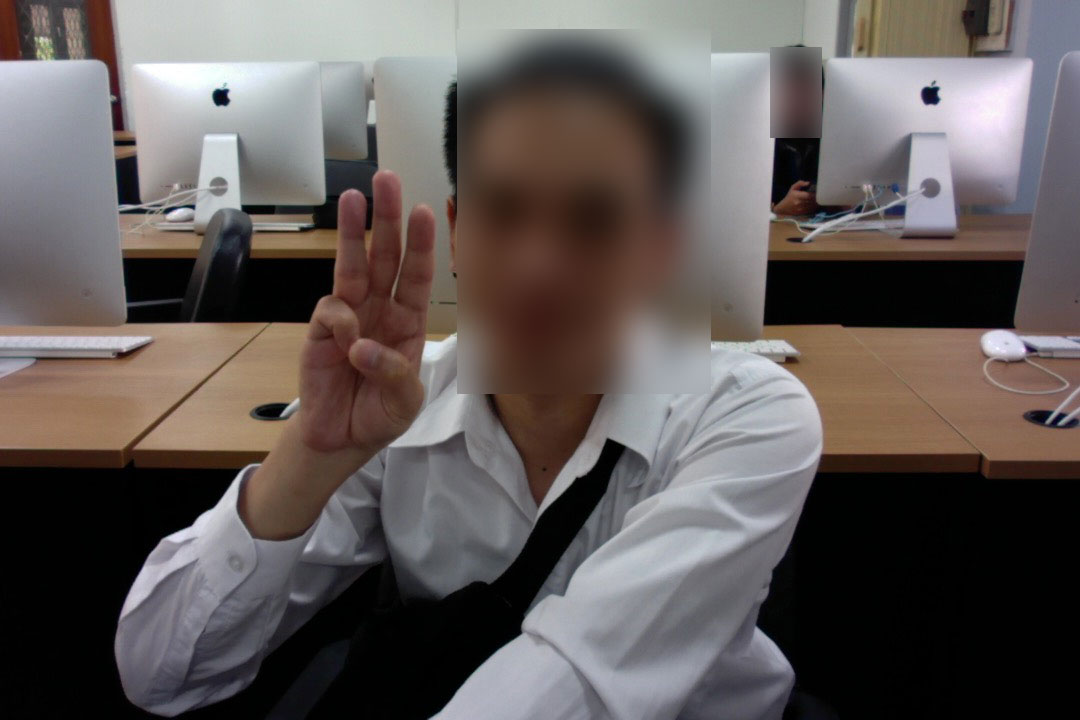wor: (292, 164, 456, 471)
